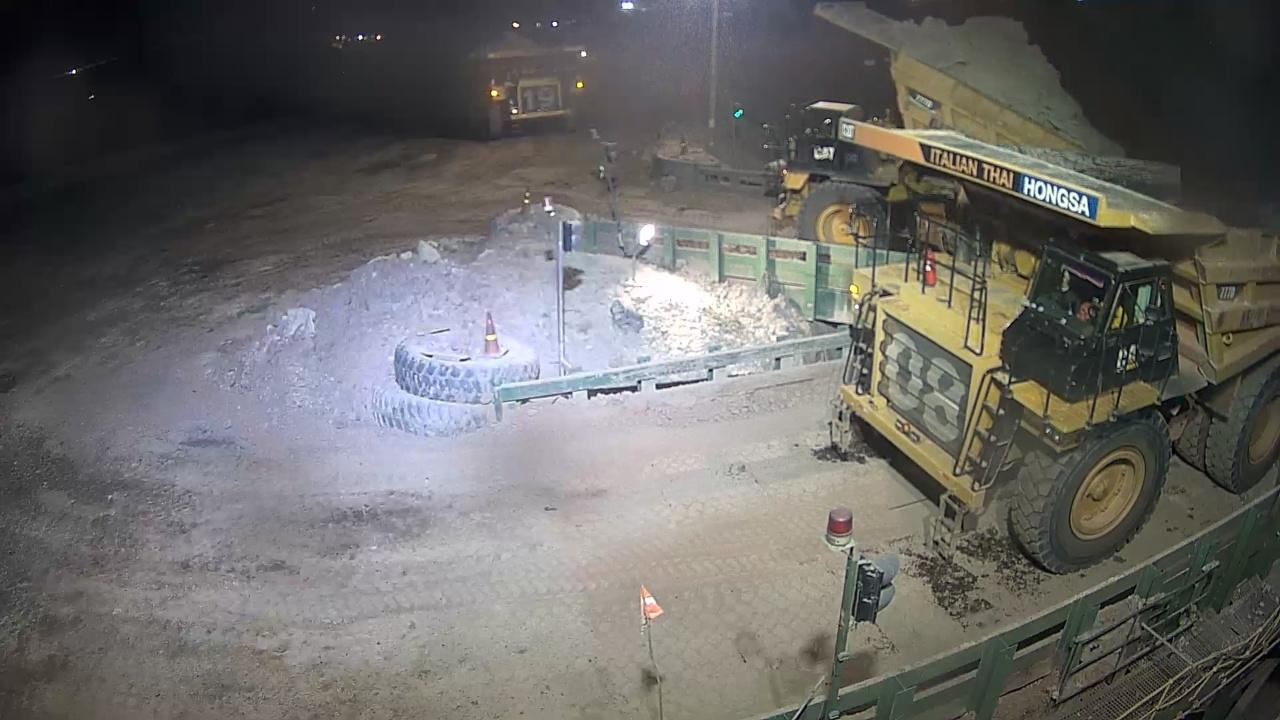dumping_soil: (776, 0, 1189, 241)
front_number: (880, 319, 961, 447), (521, 84, 561, 117)
mining_truck: (818, 118, 1280, 572), (467, 27, 602, 143)
